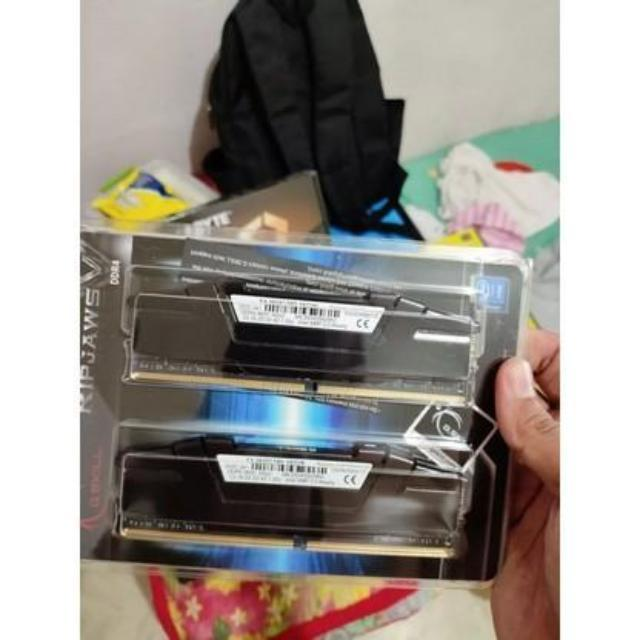RAM: (113, 266, 473, 412), (113, 438, 473, 562)
